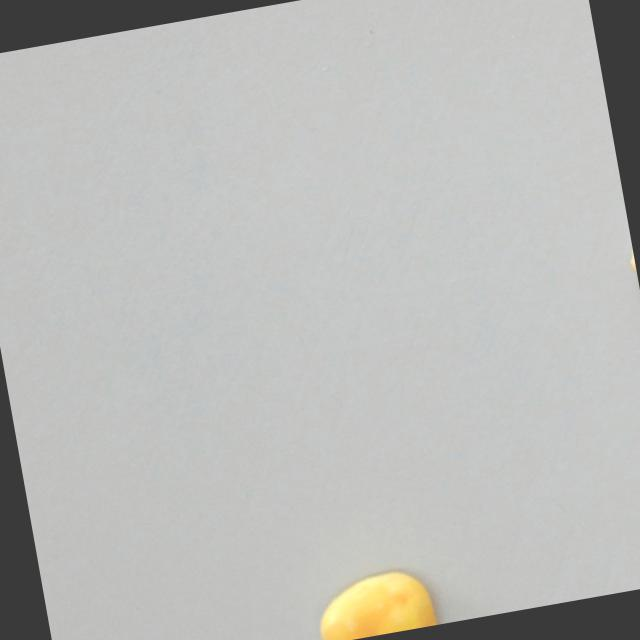dañado: (307, 560, 441, 640)
